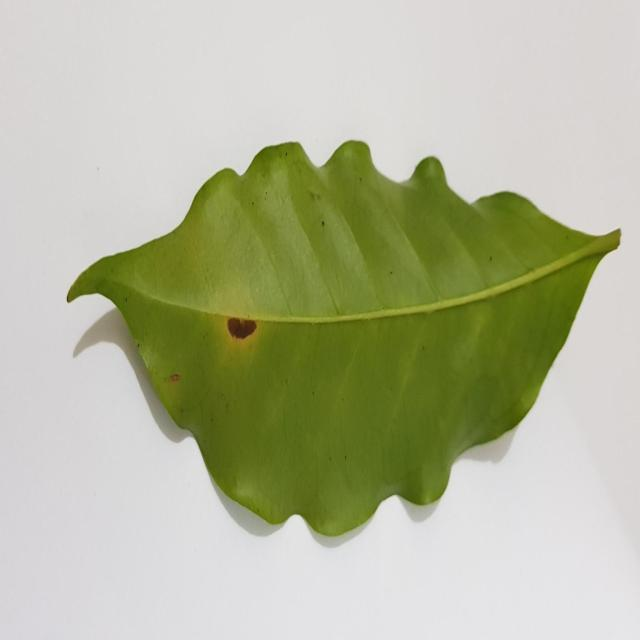Enfermedad-Mancha-de-hierro: (66, 141, 622, 544)
